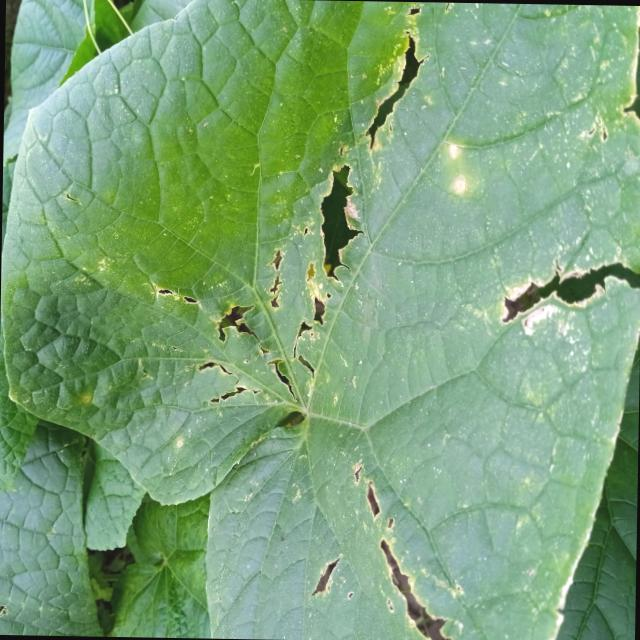cucumber_anthracnose: (136, 14, 626, 640)
